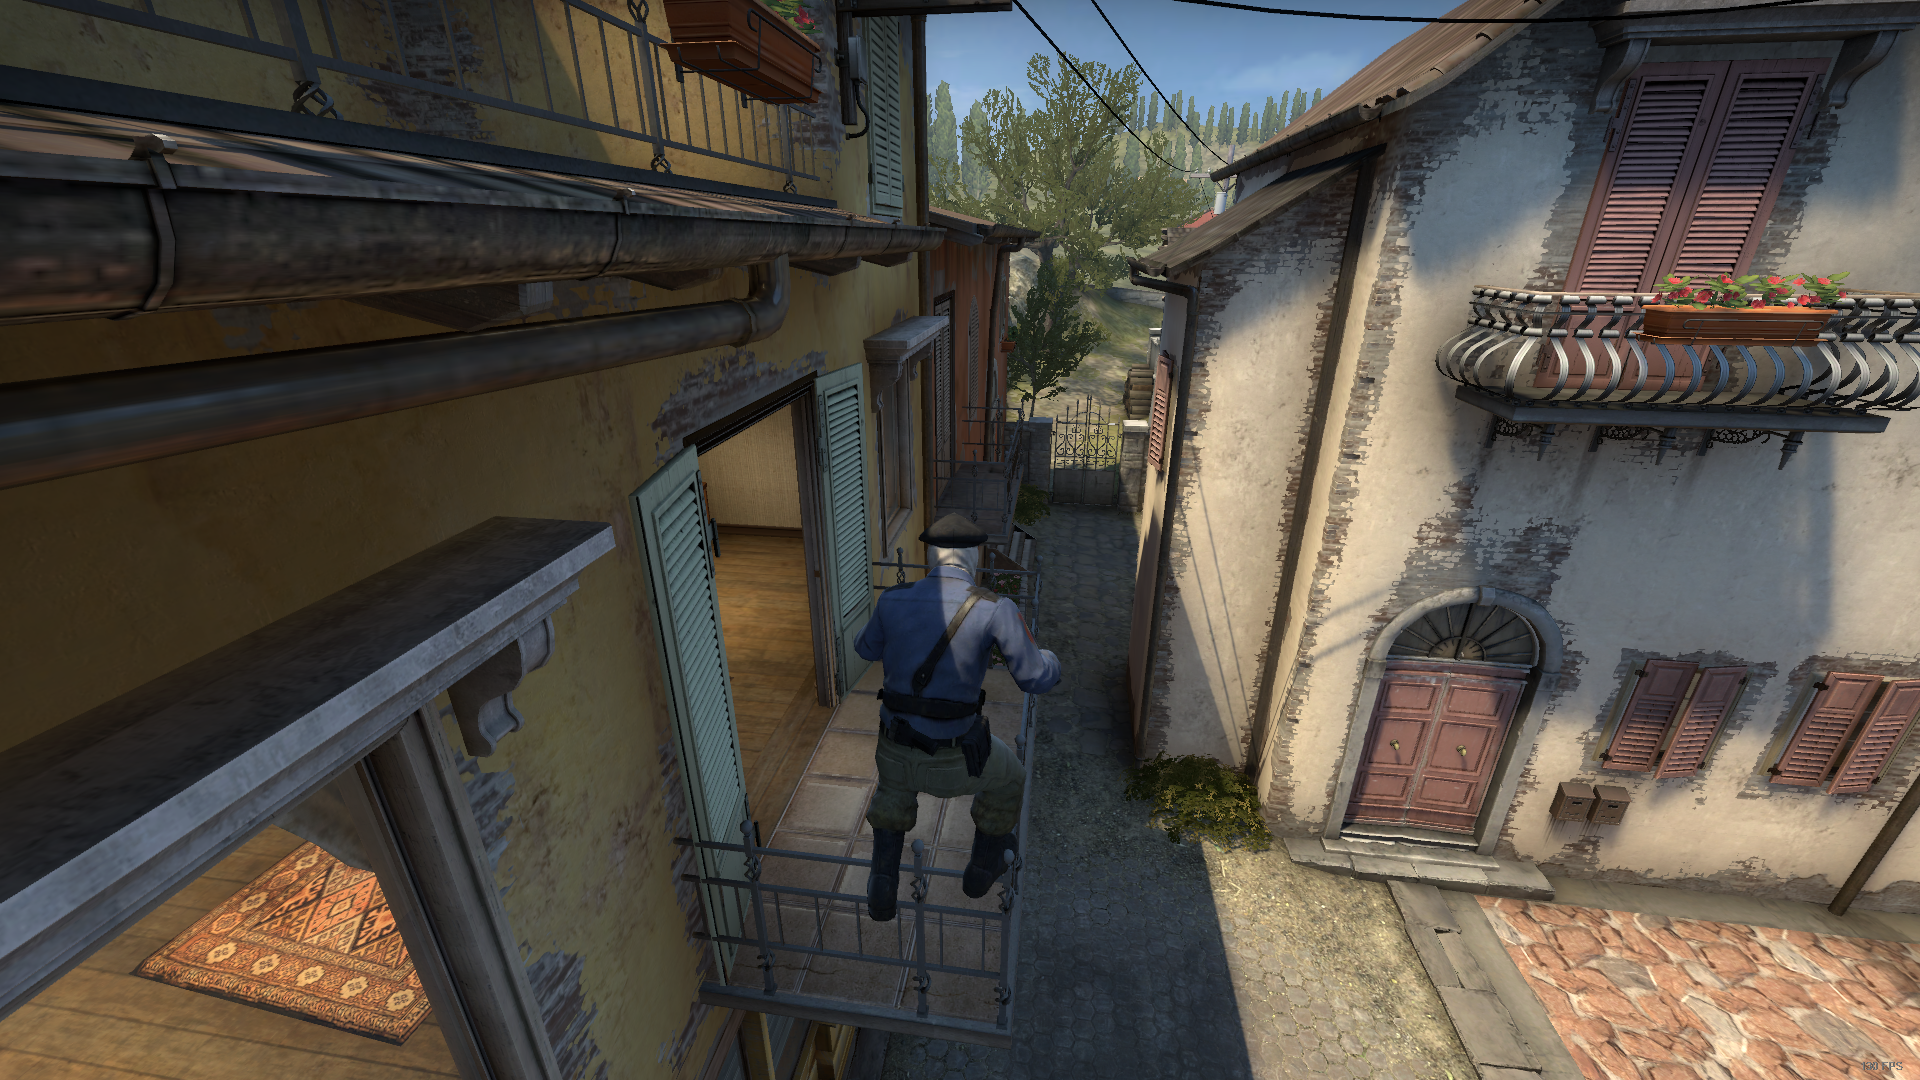t: (849, 513, 1064, 930)
